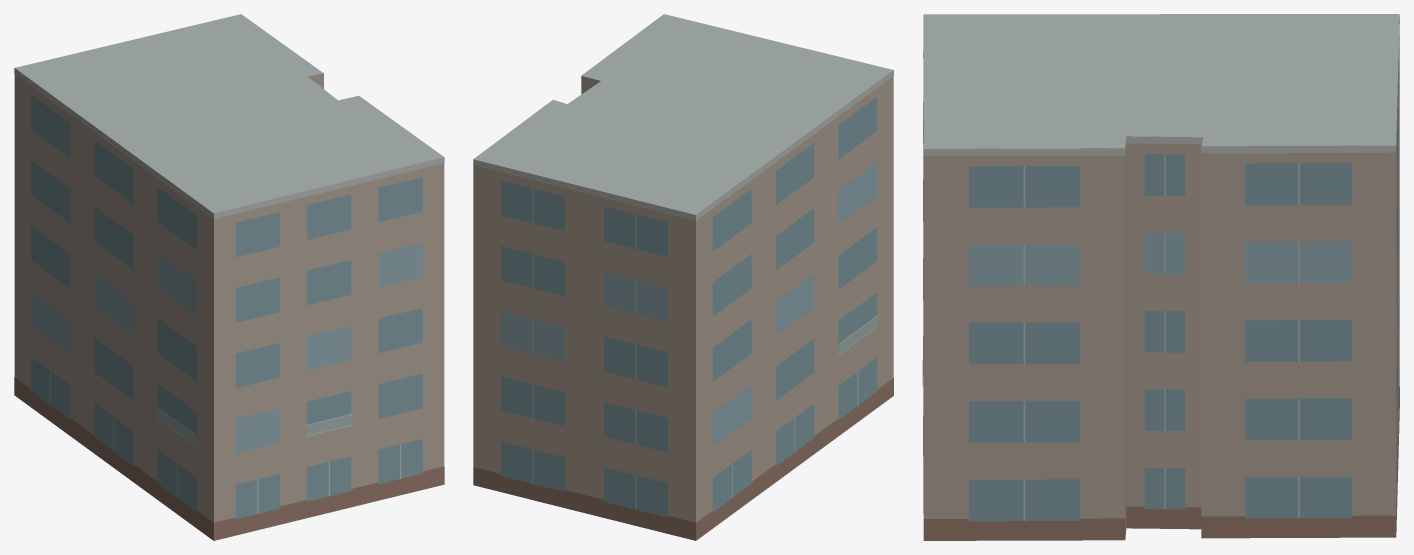
File: survey-upis-32824684.glb
3 renders of one model, left to right at view 1: azimuth 30°, elevation 25°; view 2: azimuth 150°, elevation 25°; view 3: azimuth 270°, elevation 25°, orthographic. The views are drawn at different scales.
Parts seen in each view (by area): view 1: survey-upis-32824684.tmp; view 2: survey-upis-32824684.tmp; view 3: survey-upis-32824684.tmp.
Part boxes in pixels (left/top/right/bottom): survey-upis-32824684.tmp: left=14, top=14, right=444, bottom=540; survey-upis-32824684.tmp: left=473, top=14, right=893, bottom=540; survey-upis-32824684.tmp: left=922, top=14, right=1399, bottom=540.
Bounding box in the file's own units: 9.86 × 13.3 × 14.7.
